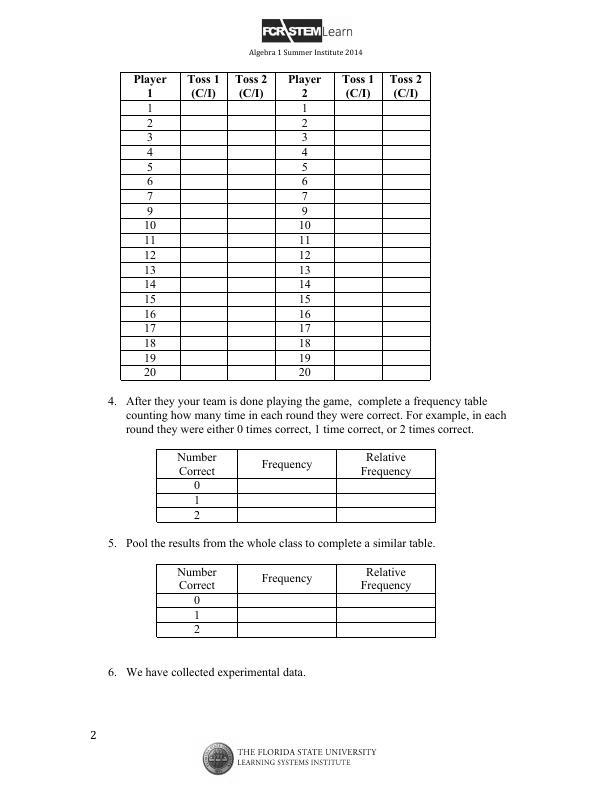table: (115, 66, 438, 385), (151, 560, 443, 643), (150, 445, 442, 527)
text: (106, 394, 508, 440), (104, 535, 445, 552), (105, 662, 308, 681)
